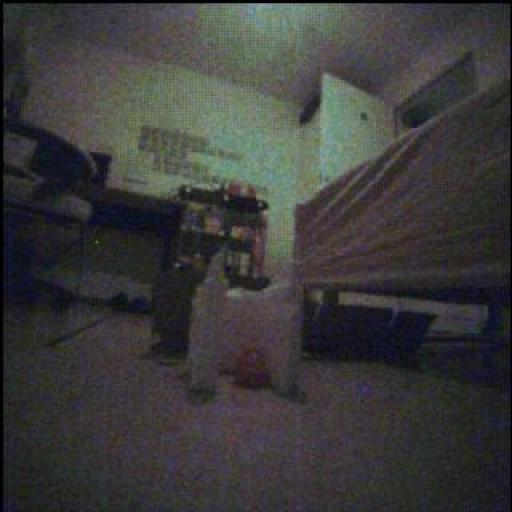basket: (238, 344, 272, 390)
